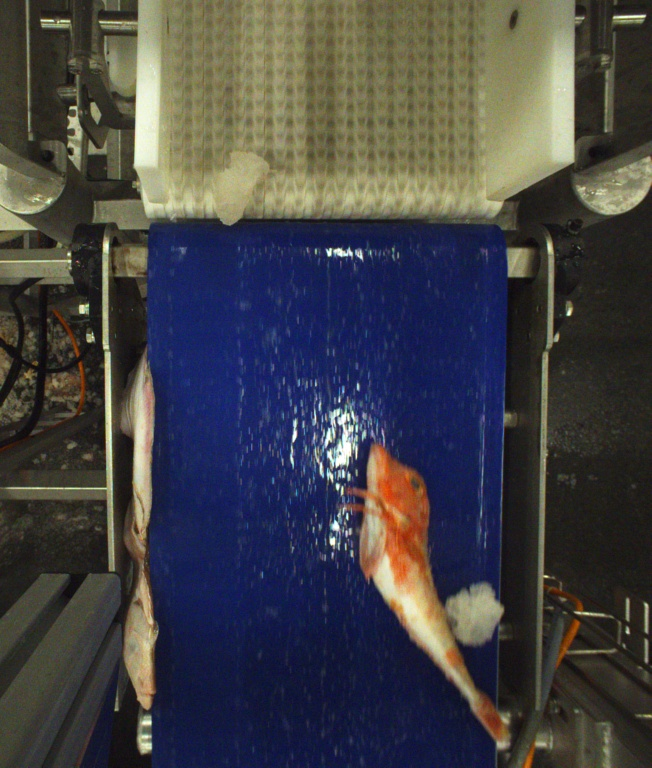GUU: (348, 439, 510, 750)
